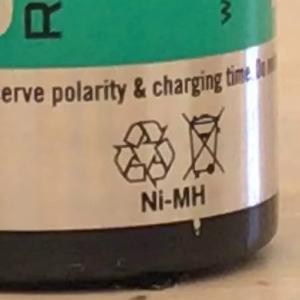keyword: (131, 174, 215, 223)
